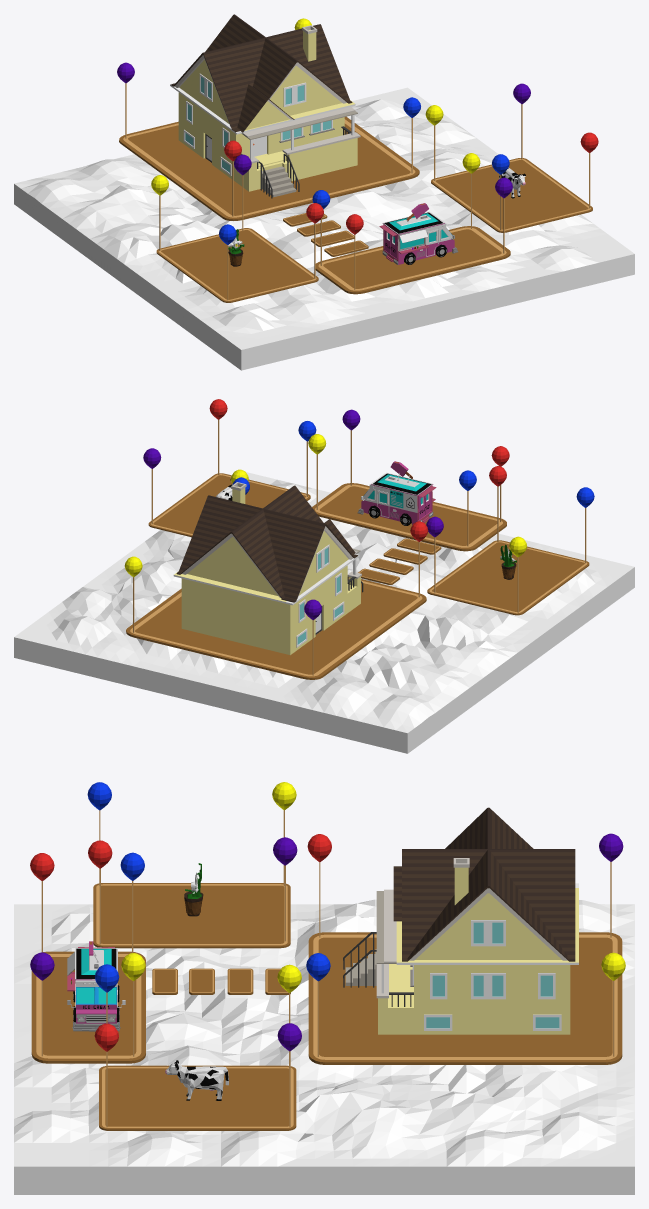
3 views of the same model, one above another, from view 1: azimuth 30°, elevation 25°; view 2: azimuth 150°, elevation 25°; view 3: azimuth 270°, elevation 25° (orthographic). The views are drawn at different scales.
Visible parts, largest first — view 1: Cube.013, Cube.1555, VEHICLES_ICE_CREAM_TRUCK; view 2: Cube.013, Cube.1555, VEHICLES_ICE_CREAM_TRUCK; view 3: Cube.013, Cube.1555, VEHICLES_ICE_CREAM_TRUCK, ANIMAL_VACA, OBJRANDOM_MONJA BLANCA.
Part boxes in pixels (x1,y1,x2,y2): Cube.013: (14, 18, 634, 370); Cube.1555: (170, 14, 360, 198); VEHICLES_ICE_CREAM_TRUCK: (379, 203, 458, 264); Cube.013: (14, 399, 634, 753); Cube.1555: (173, 482, 363, 655); VEHICLES_ICE_CREAM_TRUCK: (357, 461, 436, 525); Cube.013: (14, 782, 634, 1194); Cube.1555: (343, 807, 578, 1034); VEHICLES_ICE_CREAM_TRUCK: (67, 941, 125, 1031); ANIMAL_VACA: (165, 1060, 228, 1100); OBJRANDOM_MONJA BLANCA: (184, 863, 203, 916).
Size of the model in its own units: 4000 by 1787 by 4000.
Materials: 43 (1 with a texture image).
